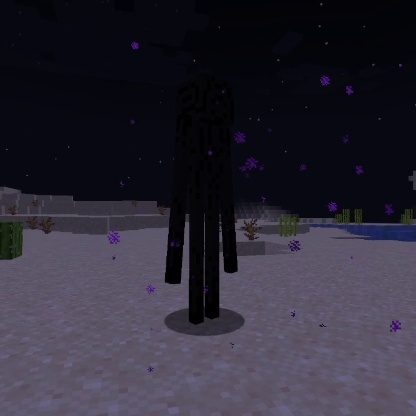enderman: (161, 72, 244, 328)
